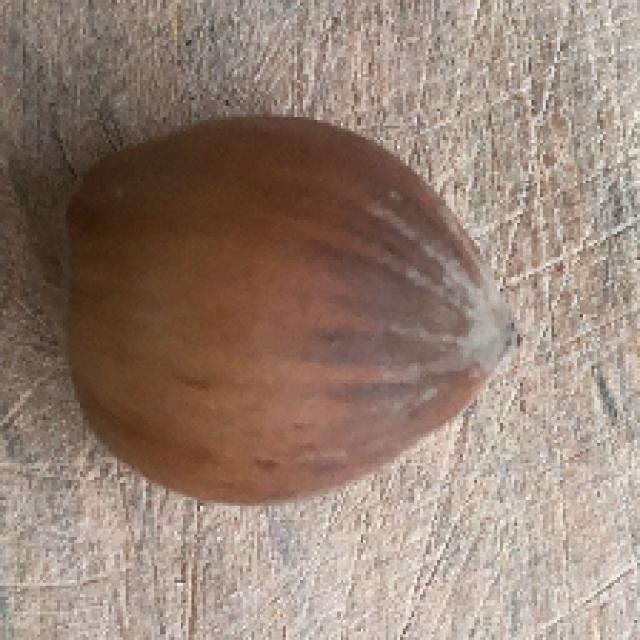qualityHazelnut: (48, 115, 520, 513)
